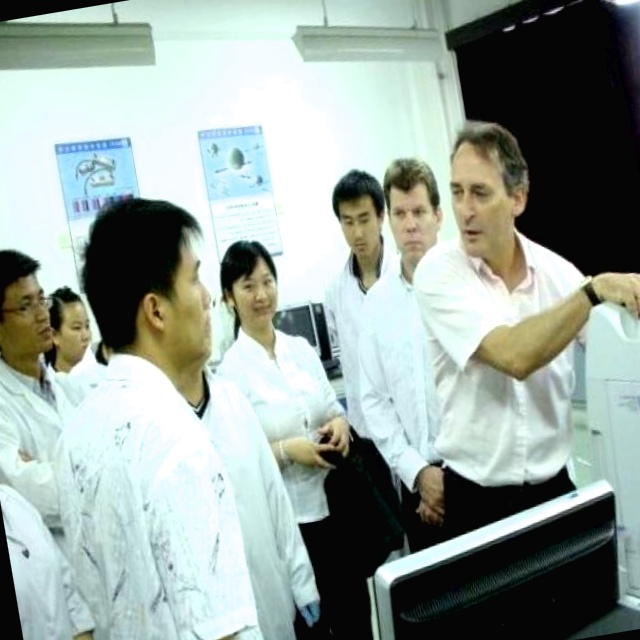Sin_Casco_Mascarrilla: (440, 112, 539, 259), (212, 237, 285, 340), (326, 163, 392, 262)
